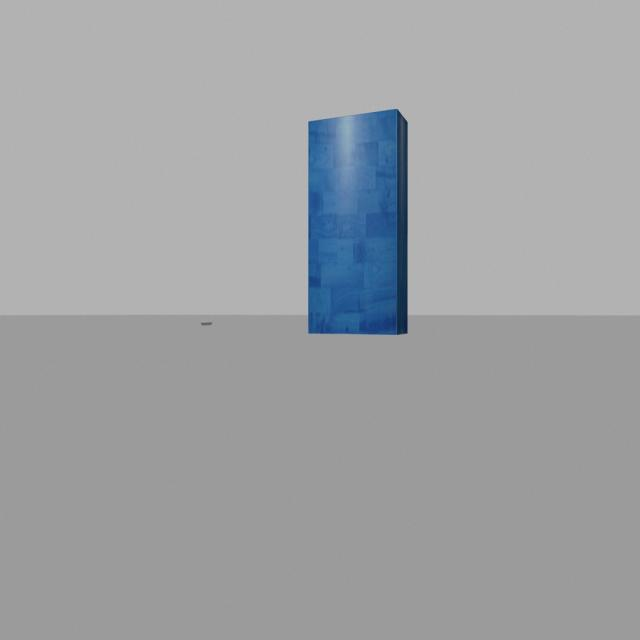bowl: (195, 313, 222, 339)
shelf: (294, 102, 418, 352)
